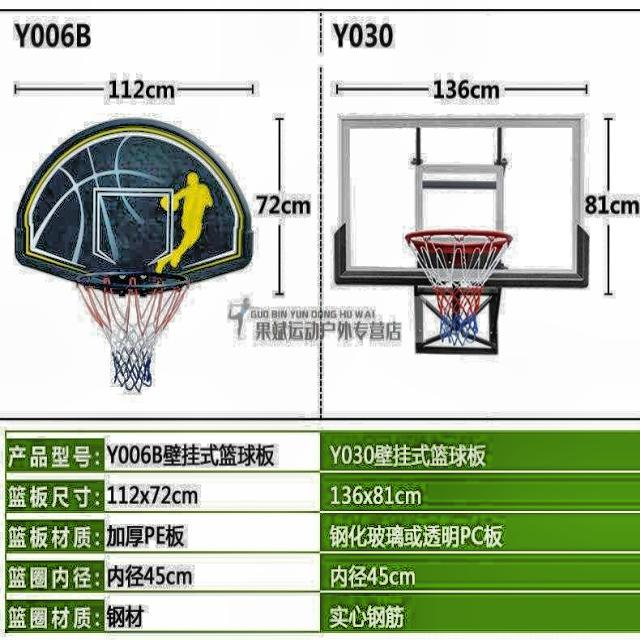rim: (76, 273, 189, 396), (406, 230, 513, 342)
